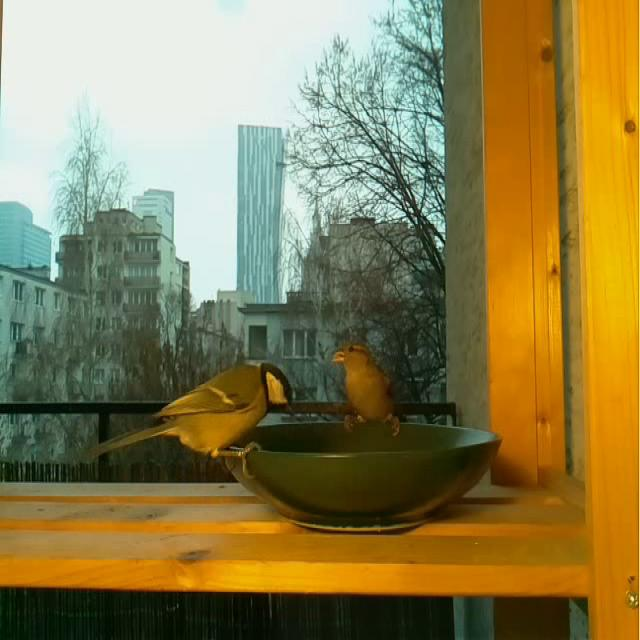Bogatka: (81, 359, 299, 485)
Wrobel: (330, 339, 406, 440)
